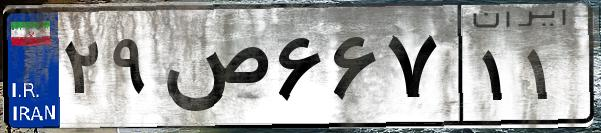1: (475, 38, 525, 113), (525, 38, 570, 115)
2: (57, 26, 110, 100)
6: (270, 28, 330, 110), (330, 28, 385, 110)
7: (385, 28, 445, 110)
9: (110, 28, 158, 98)
ص: (158, 20, 270, 120)
